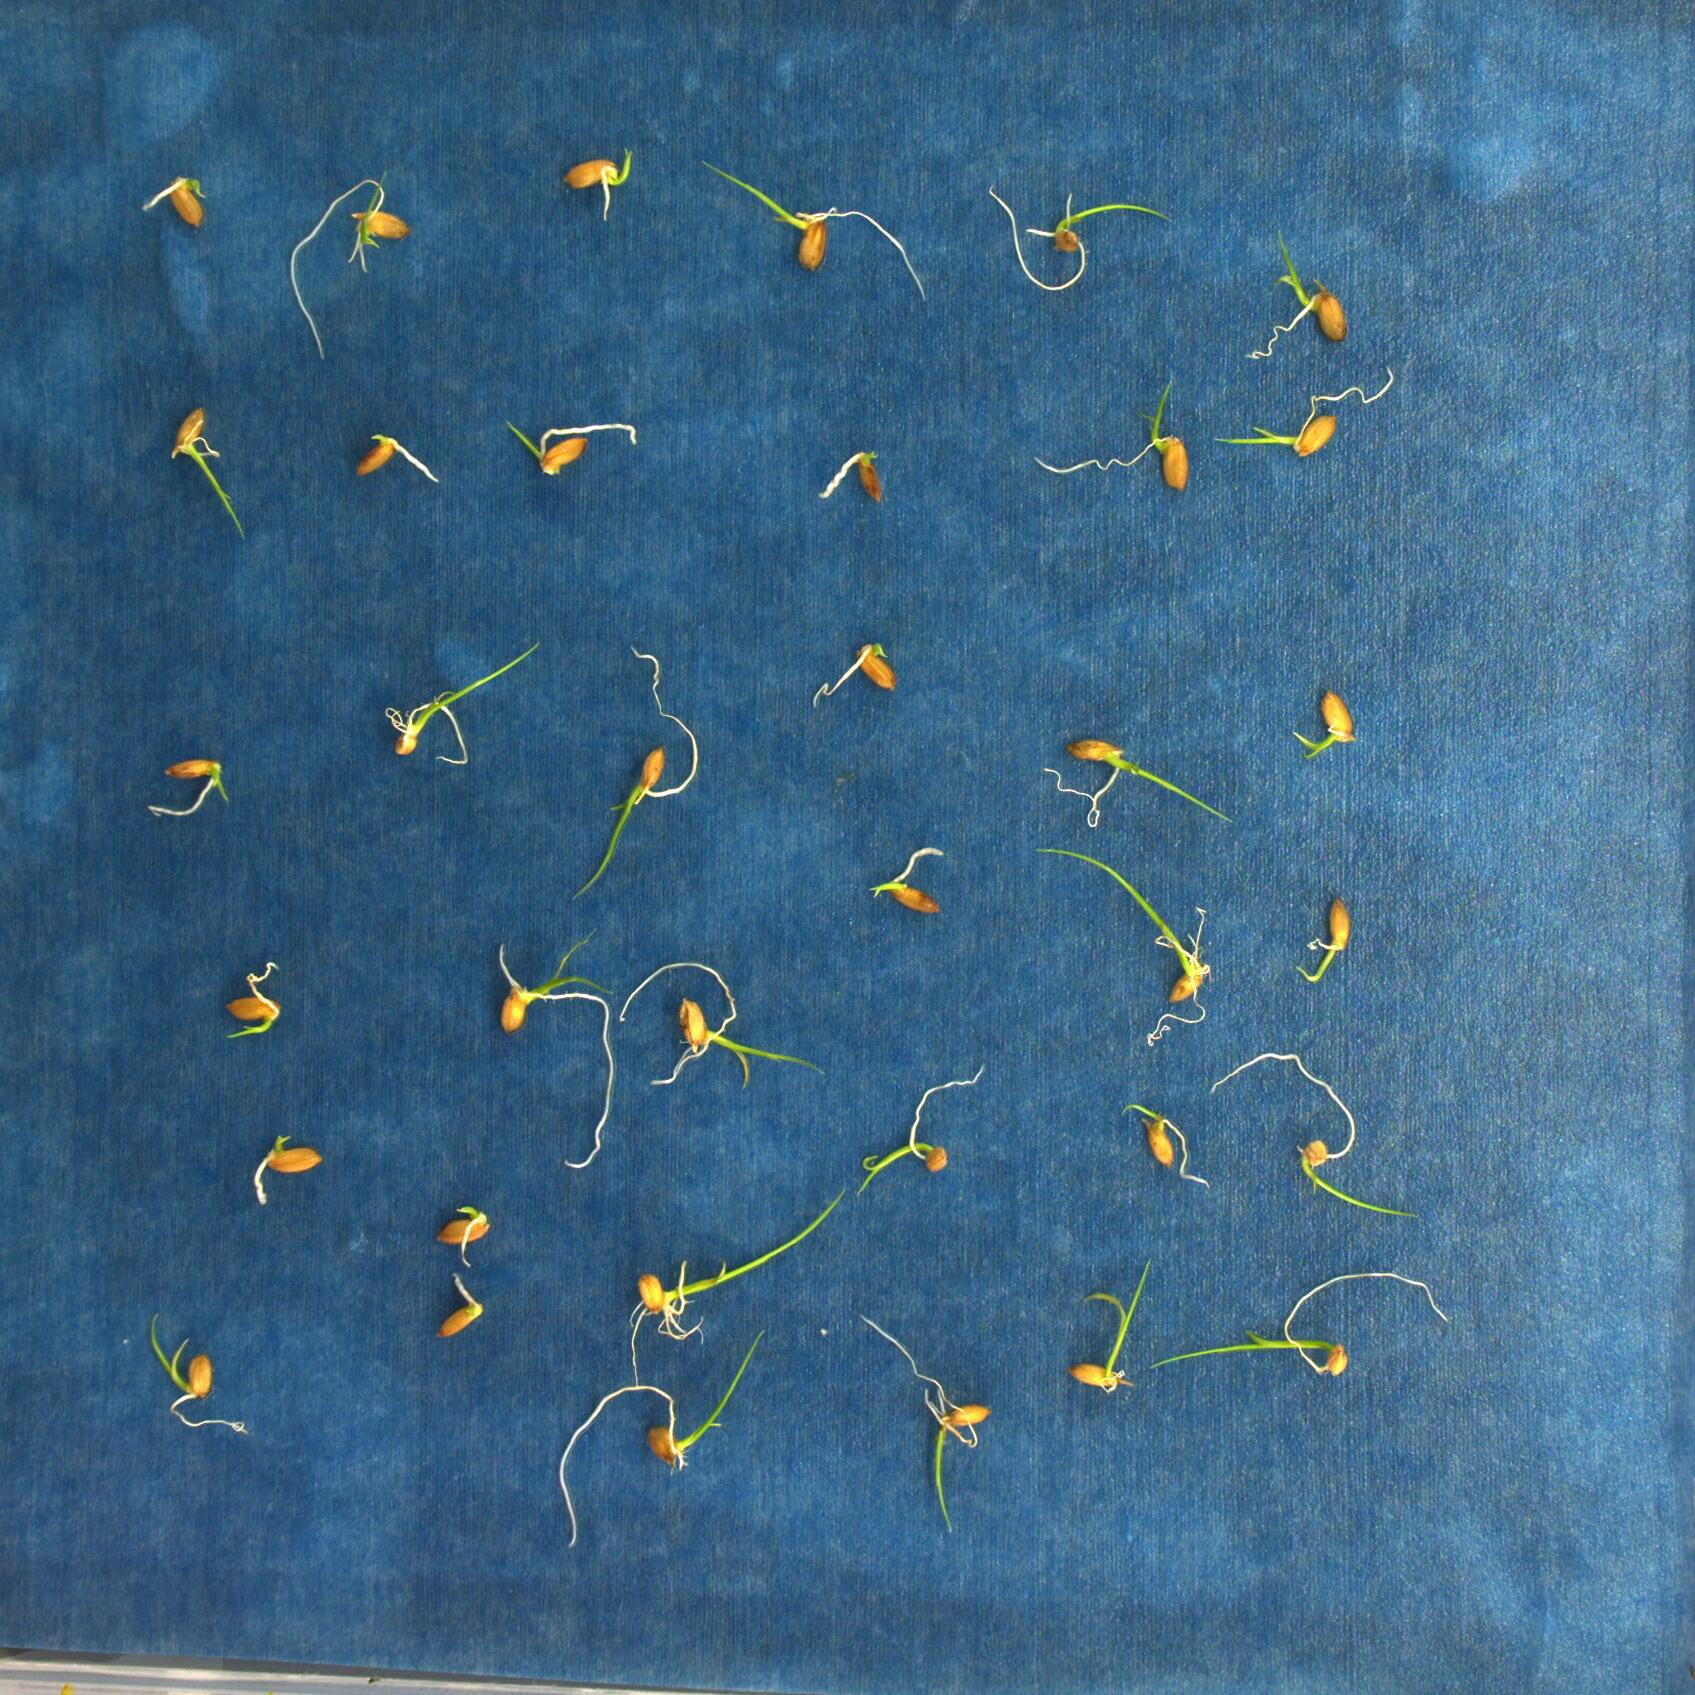not sprout: (812, 640, 897, 706), (253, 1135, 320, 1205), (355, 432, 439, 484), (816, 449, 886, 503), (140, 172, 206, 227), (432, 1274, 484, 1338)
sprout: (559, 1326, 768, 1544), (632, 1184, 854, 1383), (1212, 1052, 1420, 1218), (1038, 846, 1208, 1048), (700, 157, 928, 300), (574, 646, 698, 903), (1152, 1271, 1450, 1378), (861, 1315, 993, 1535), (497, 927, 612, 1170), (619, 961, 826, 1093), (290, 168, 413, 360), (987, 183, 1178, 293), (383, 640, 542, 767), (1043, 737, 1239, 830), (1035, 376, 1191, 492), (1214, 365, 1394, 458), (857, 1063, 984, 1194), (1246, 230, 1347, 360), (151, 1313, 251, 1433), (1066, 1254, 1153, 1392), (171, 407, 245, 542), (504, 418, 640, 480), (1121, 1104, 1211, 1187), (563, 146, 635, 220), (1295, 896, 1352, 986), (868, 847, 944, 914), (151, 757, 230, 820), (224, 959, 282, 1038), (1291, 688, 1357, 757), (438, 1205, 487, 1267)
